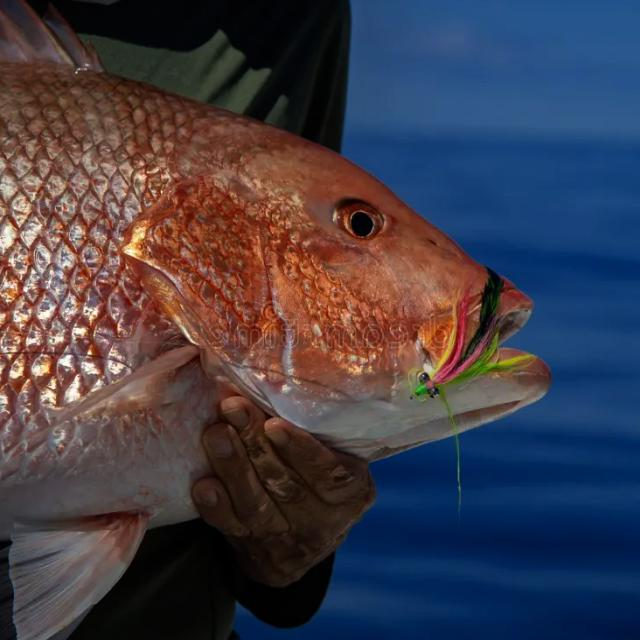Red Snapper: (0, 60, 552, 640)
